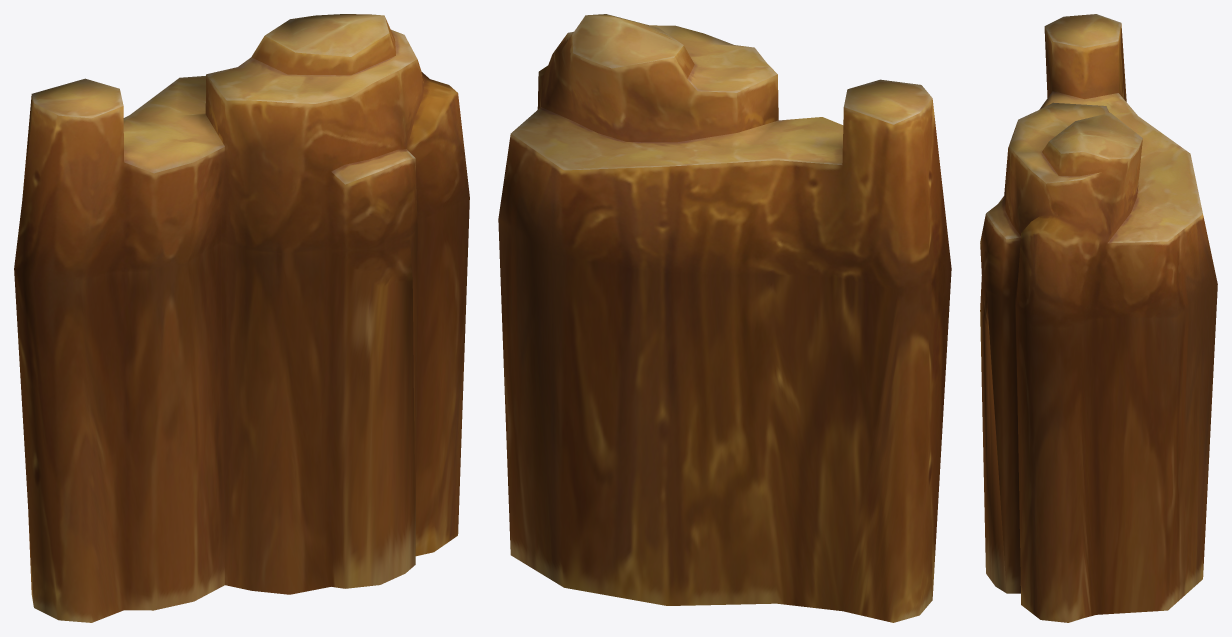
File: Stage_ShaMo_ShanBi01.FBX
The picture shows the model from 3 angles, left to right: view 1: azimuth 30°, elevation 25°; view 2: azimuth 150°, elevation 25°; view 3: azimuth 270°, elevation 25°; orthographic projection. The views are drawn at different scales.
Parts seen in each view (by area): view 1: Stage_ShaMo_ShanBi01; view 2: Stage_ShaMo_ShanBi01; view 3: Stage_ShaMo_ShanBi01.
Part boxes in pixels (x1,y1,x2,y2): Stage_ShaMo_ShanBi01: (14,14,469,622); Stage_ShaMo_ShanBi01: (498,14,951,622); Stage_ShaMo_ShanBi01: (980,14,1217,622).
Size of the model in its own units: 955 by 1133 by 542.
